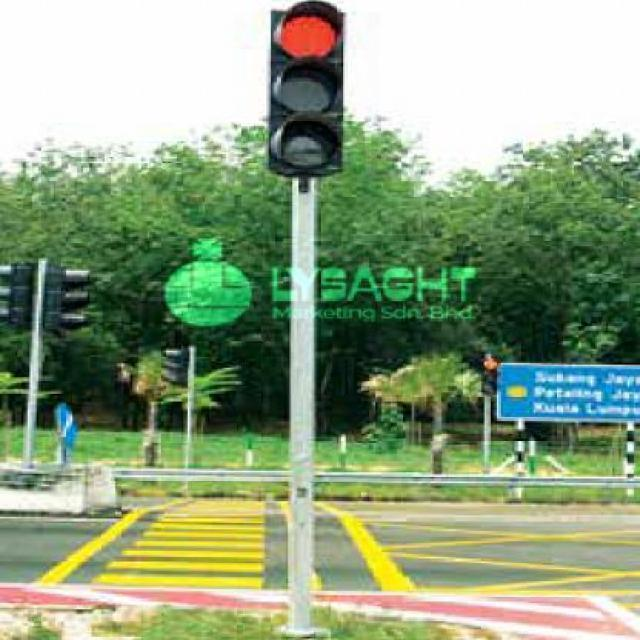traffic light: (267, 0, 346, 178), (43, 262, 91, 336), (7, 264, 34, 329), (482, 354, 501, 396)
